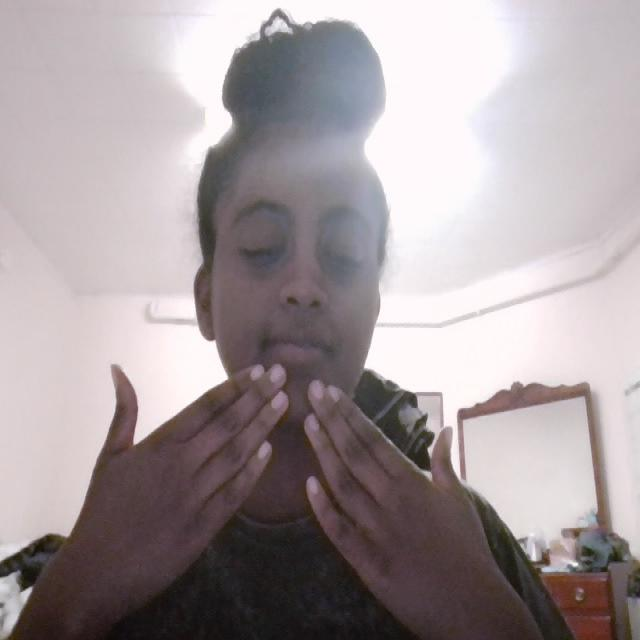thanks: (52, 350, 510, 637)
